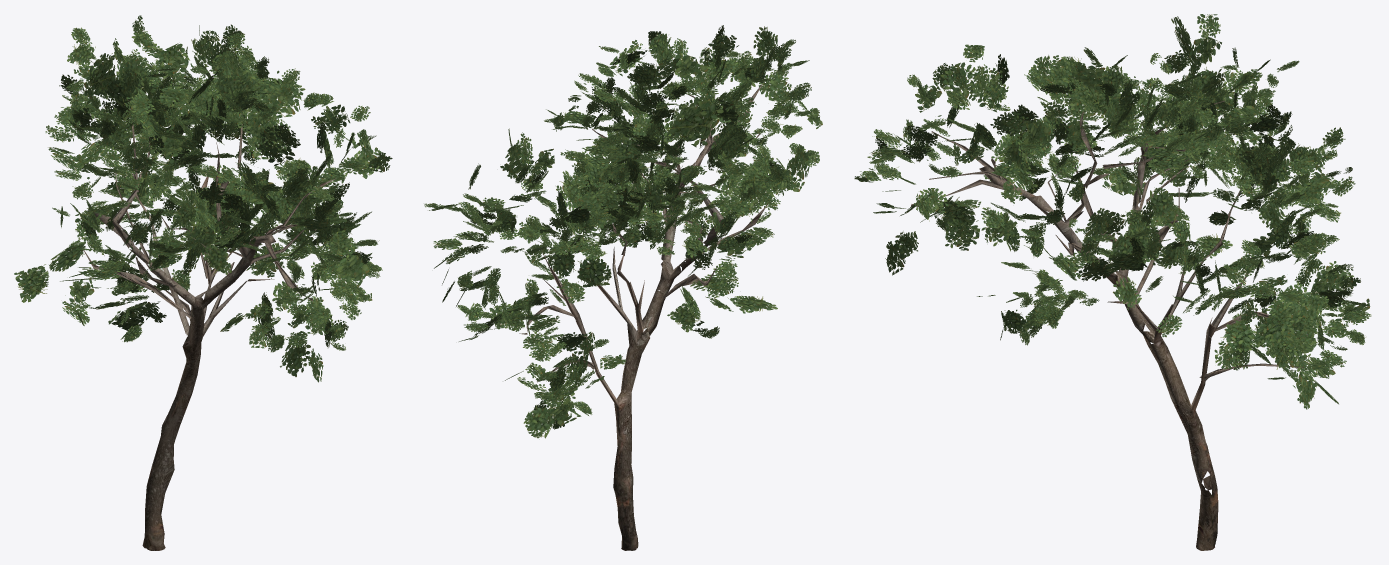
The picture shows the model from 3 angles, left to right: view 1: azimuth 30°, elevation 25°; view 2: azimuth 150°, elevation 25°; view 3: azimuth 270°, elevation 25°; orthographic projection. The views are drawn at different scales.
Visible parts, largest first — view 1: tree; view 2: tree; view 3: tree.
Boxes of the visible parts, bbox=[...] form: tree: bbox=[14, 15, 392, 550]; tree: bbox=[424, 25, 822, 550]; tree: bbox=[854, 14, 1371, 550].
Size of the model in its own units: 3.05 by 4.64 by 4.32.
3 materials, 3 textured.
